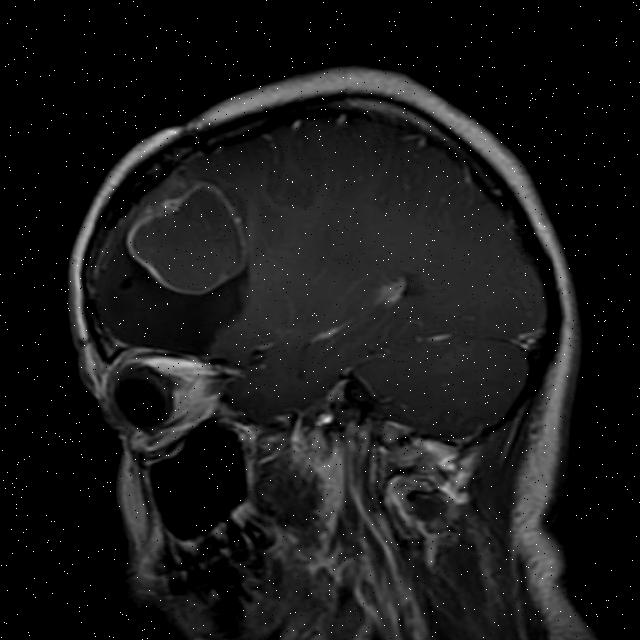Glioma: (118, 173, 254, 301)
